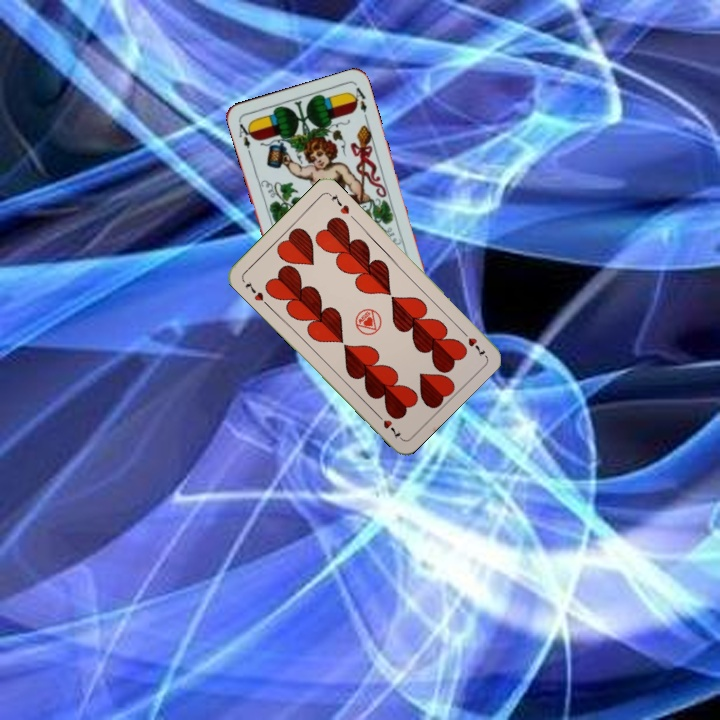EA: (234, 117, 256, 157)
H7: (457, 326, 488, 359), (241, 277, 271, 308)
